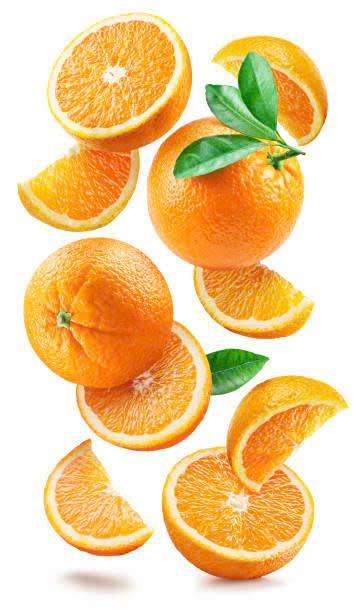orange: (156, 126, 338, 326), (14, 240, 186, 383), (141, 436, 296, 566), (64, 0, 176, 151), (1, 136, 157, 238), (216, 20, 337, 136), (90, 349, 247, 438), (50, 420, 139, 571), (226, 380, 334, 479)
